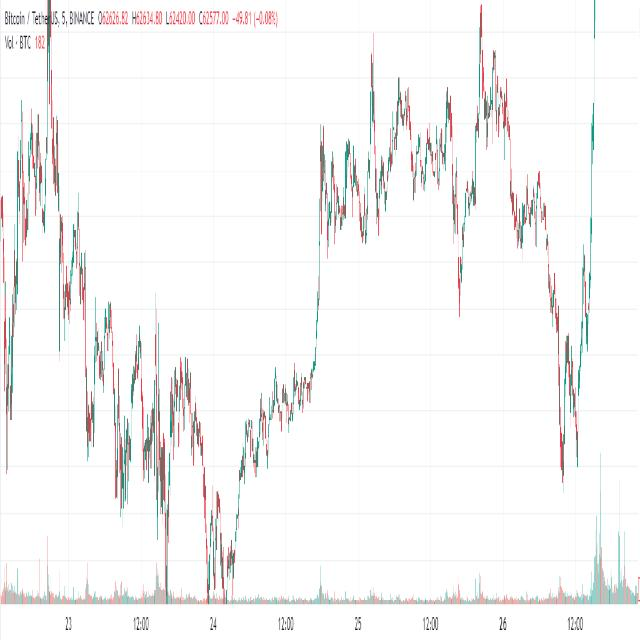Double-Bottom: (553, 249, 588, 496)
rectangle: (312, 131, 372, 261)
